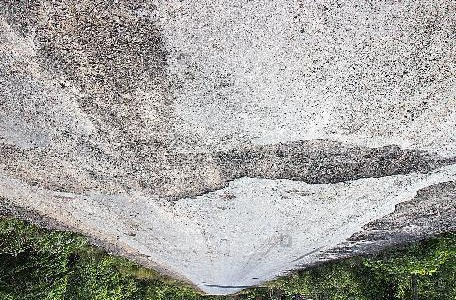pothole: (245, 140, 441, 185), (157, 144, 236, 203)
